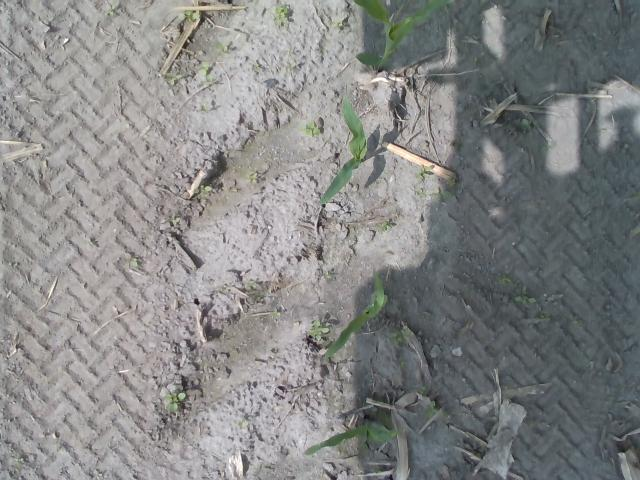Maize: (352, 0, 453, 80), (322, 270, 388, 362), (317, 96, 369, 206), (303, 418, 399, 458)
Weeds: (308, 320, 330, 342), (438, 183, 464, 200), (166, 391, 186, 411), (302, 119, 320, 137), (273, 2, 291, 19), (179, 10, 200, 22), (514, 294, 536, 305), (391, 329, 406, 345), (104, 0, 118, 16), (512, 116, 529, 129), (418, 166, 432, 180), (167, 72, 182, 85), (427, 400, 439, 416), (496, 276, 512, 286), (245, 172, 258, 184), (200, 64, 210, 78), (537, 312, 552, 320), (128, 258, 140, 267), (200, 184, 212, 192), (332, 19, 343, 27), (384, 222, 392, 232), (272, 308, 280, 318), (400, 359, 408, 368), (218, 42, 226, 51)
